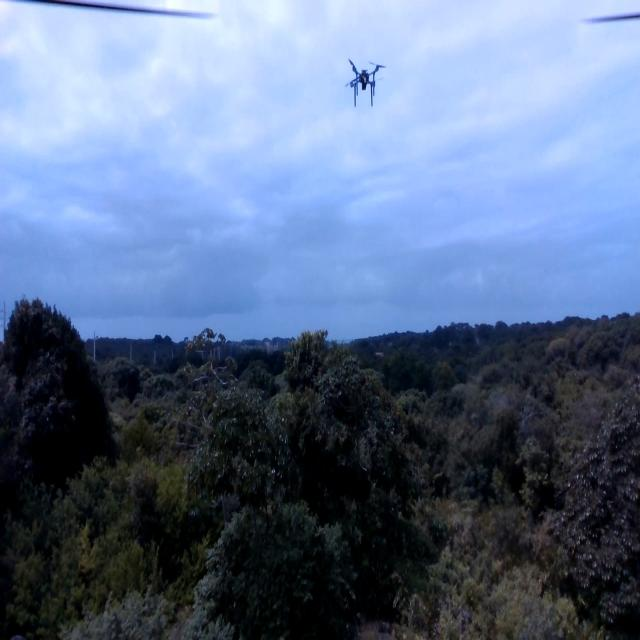-uav-: (343, 49, 390, 112)
